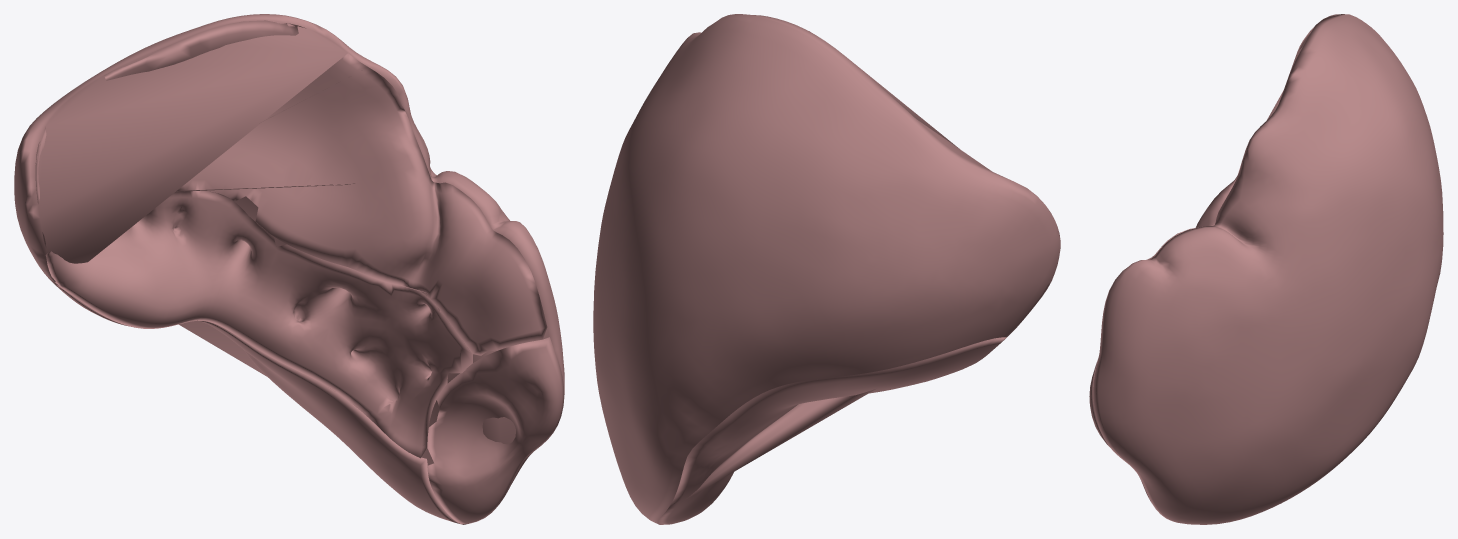
Rendered from vh_m_spleen-80.glb.
3 views of the same model, side by side, from view 1: azimuth 30°, elevation 25°; view 2: azimuth 150°, elevation 25°; view 3: azimuth 270°, elevation 25° (orthographic). The views are drawn at different scales.
Visible parts, largest first — view 1: VH_M_gastric_surface_of_spleen, VH_M_hilum_of_spleen, VH_M_diaphragmatic_surface_of_spleen, VH_M_colic_surface_of_spleen, VH_M_renal_surface_of_spleen; view 2: VH_M_diaphragmatic_surface_of_spleen, VH_M_renal_surface_of_spleen; view 3: VH_M_diaphragmatic_surface_of_spleen, VH_M_gastric_surface_of_spleen.
Part boxes in pixels (x1,y1,x2,y2): VH_M_gastric_surface_of_spleen: [35, 20, 547, 355]; VH_M_hilum_of_spleen: [45, 190, 472, 458]; VH_M_diaphragmatic_surface_of_spleen: [14, 14, 564, 524]; VH_M_colic_surface_of_spleen: [427, 337, 564, 524]; VH_M_renal_surface_of_spleen: [51, 281, 462, 524]; VH_M_diaphragmatic_surface_of_spleen: [593, 14, 1060, 523]; VH_M_renal_surface_of_spleen: [657, 337, 1006, 524]; VH_M_diaphragmatic_surface_of_spleen: [1093, 14, 1443, 524]; VH_M_gastric_surface_of_spleen: [1147, 28, 1313, 259].
Size of the model in its own units: 0.1104 by 0.1186 by 0.0886.
